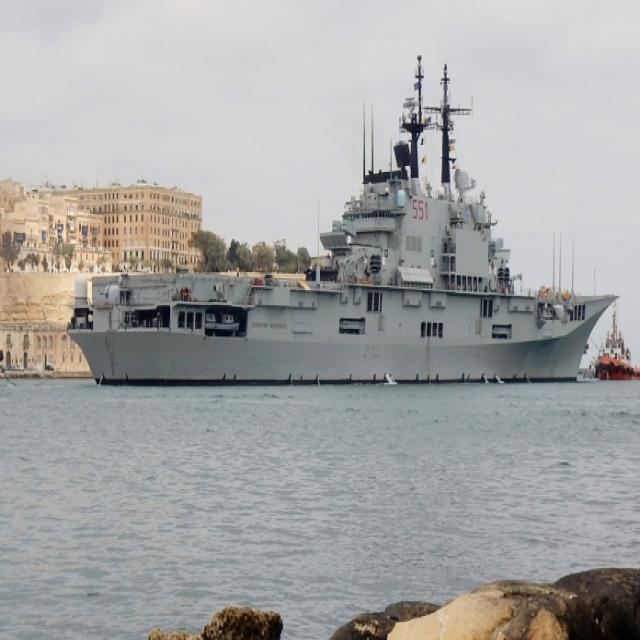Portanaves: (62, 46, 625, 388)
